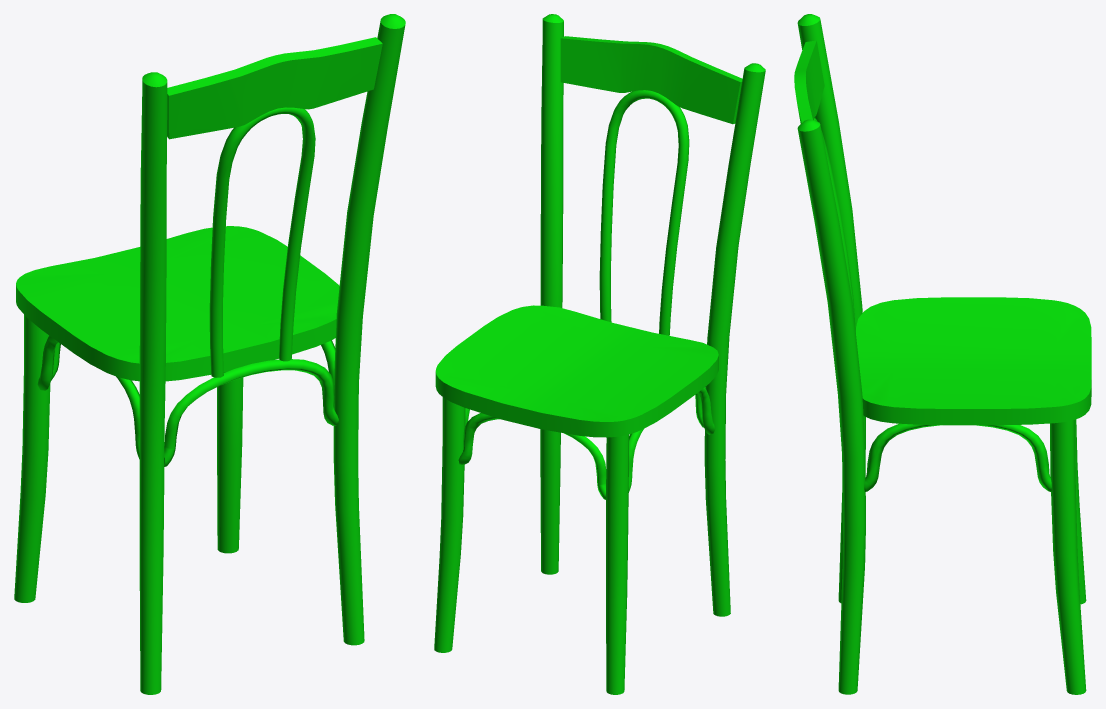
Rendered from Chair.fbx.
3 renders of one model, left to right at view 1: azimuth 30°, elevation 25°; view 2: azimuth 150°, elevation 25°; view 3: azimuth 270°, elevation 25°, orthographic. The views are drawn at different scales.
Visible parts, largest first — view 1: Chair; view 2: Chair; view 3: Chair.
Boxes of the visible parts, <box> form: Chair: <box>14,14,405,694</box>; Chair: <box>434,14,765,694</box>; Chair: <box>794,14,1091,694</box>.
Size of the model in its own units: 51.48 by 120 by 56.1.
